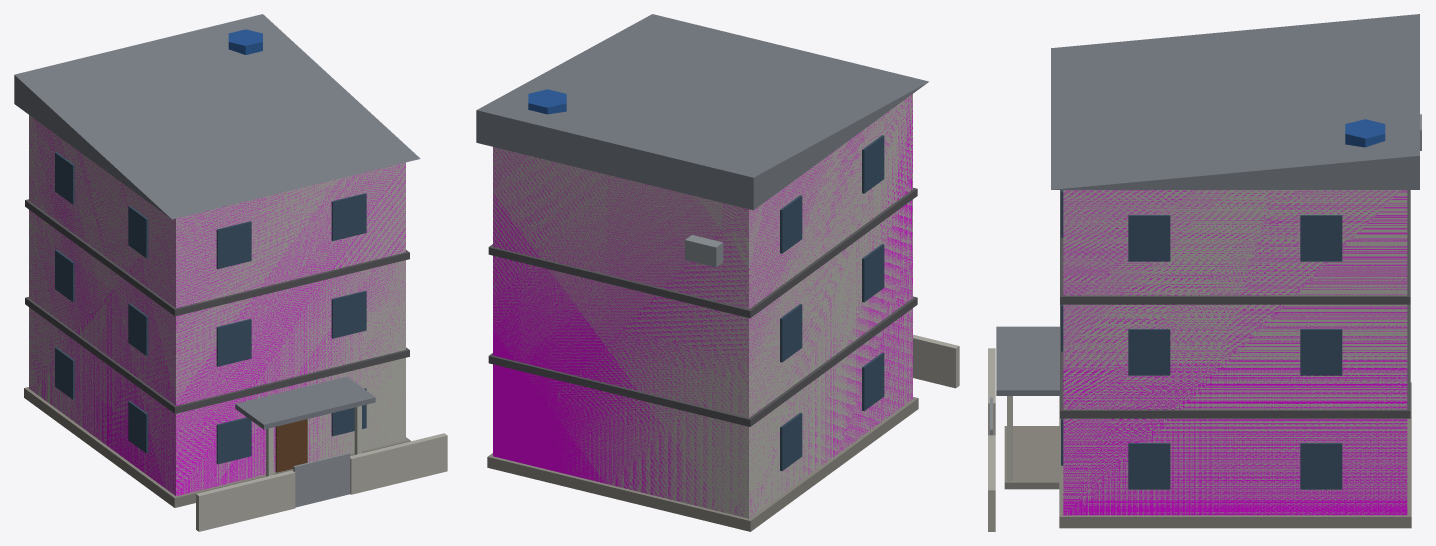
Rendered from House_3S_01.glb.
The picture shows the model from 3 angles, left to right: view 1: azimuth 30°, elevation 25°; view 2: azimuth 150°, elevation 25°; view 3: azimuth 270°, elevation 25°; orthographic projection. The views are drawn at different scales.
Visible parts, largest first — view 1: House_3S_01, House_3S_01_COL; view 2: House_3S_01, House_3S_01_COL; view 3: House_3S_01, House_3S_01_COL.
Part boxes in pixels (x1=…): House_3S_01: x1=14, y1=14, x2=447, y2=531; House_3S_01_COL: x1=29, y1=117, x2=405, y2=495; House_3S_01: x1=476, y1=14, x2=959, y2=531; House_3S_01_COL: x1=493, y1=94, x2=912, y2=517; House_3S_01: x1=988, y1=14, x2=1421, y2=531; House_3S_01_COL: x1=1063, y1=190, x2=1407, y2=515.
Size of the model in its own units: 8 by 10 by 10.35.
